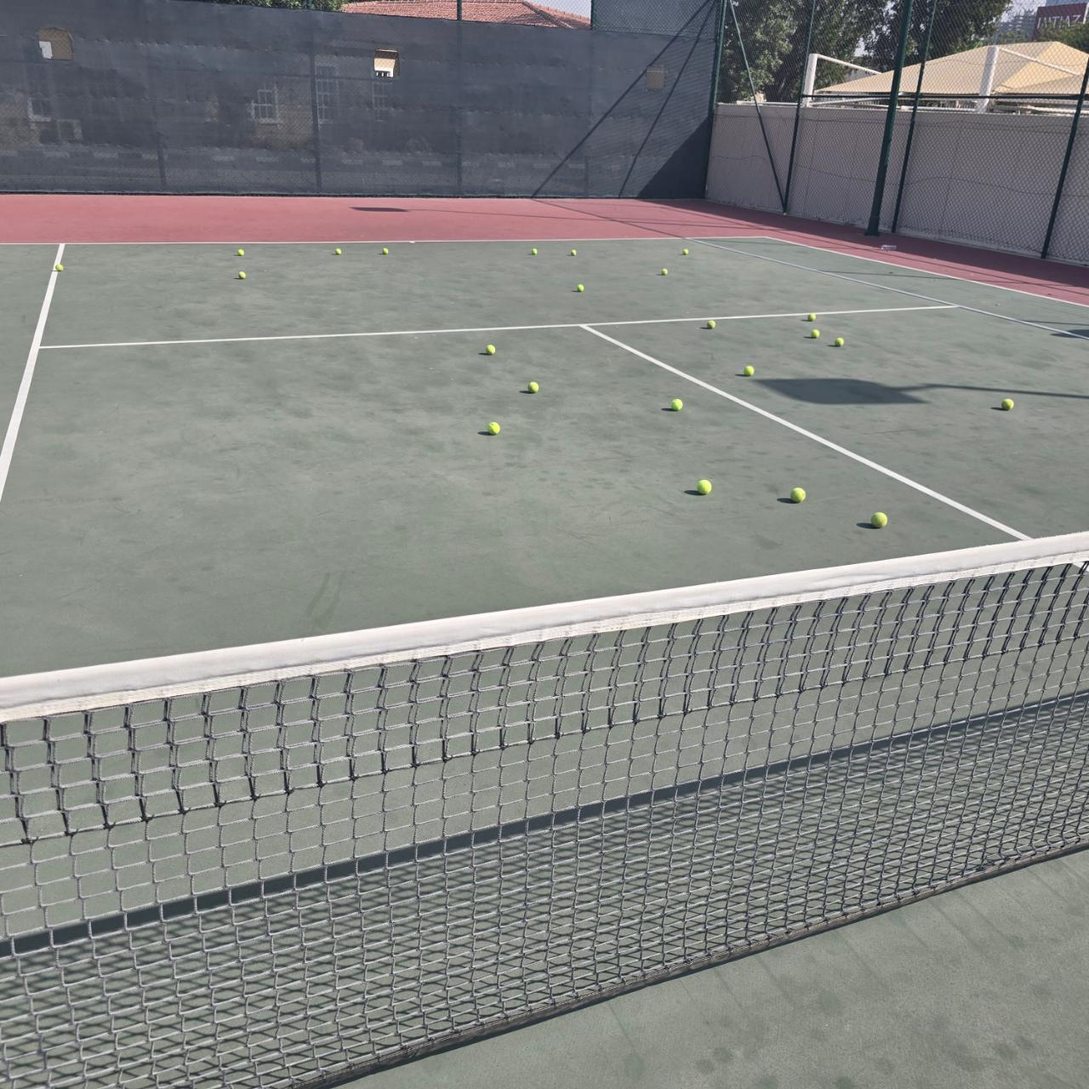tennis-ball: (869, 510, 887, 527), (696, 478, 711, 496), (790, 485, 805, 502), (1000, 396, 1014, 410), (487, 419, 500, 434), (670, 396, 683, 411), (527, 379, 539, 392), (484, 342, 495, 355), (744, 366, 754, 377), (835, 337, 844, 348), (707, 320, 716, 329), (811, 330, 820, 338), (808, 313, 816, 322), (55, 264, 64, 271), (577, 284, 584, 292), (238, 271, 245, 279), (661, 268, 668, 275), (531, 248, 538, 255), (238, 249, 245, 256), (571, 249, 577, 256), (382, 248, 389, 254), (336, 249, 342, 255), (682, 249, 688, 255), (783, 212, 787, 216)
